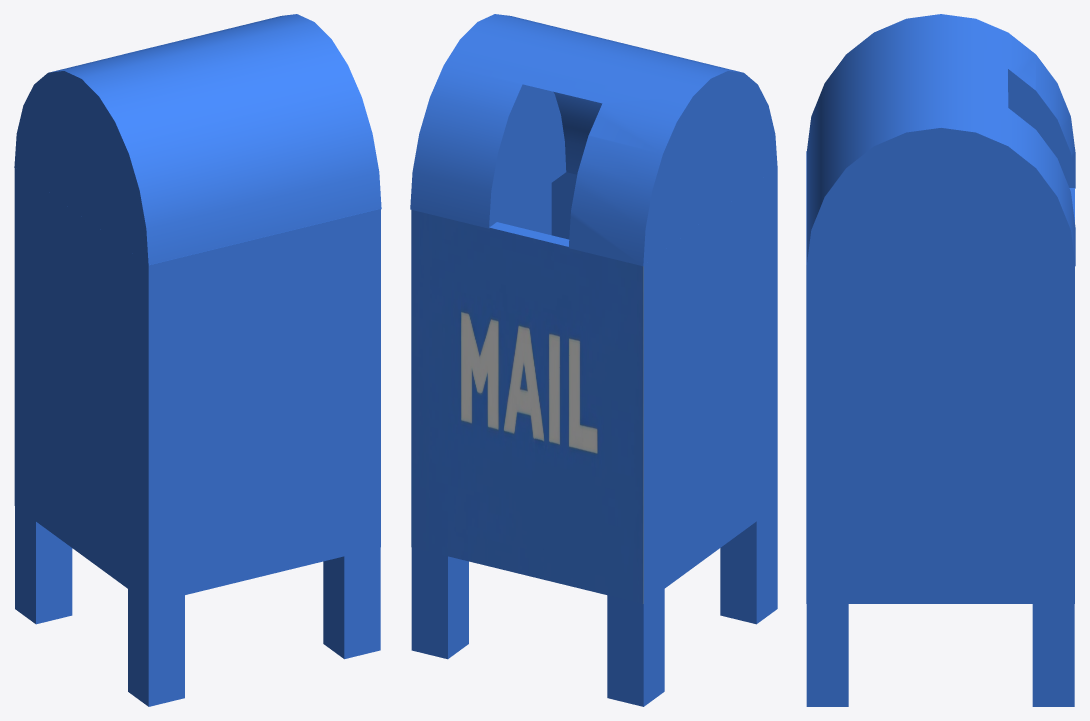
File: BuzonDeCorreo.obj
3 views of the same model, side by side, from view 1: azimuth 30°, elevation 25°; view 2: azimuth 150°, elevation 25°; view 3: azimuth 270°, elevation 25° (orthographic).
Visible parts, largest first — view 1: polySurface149, pCube9, pCube8, pCube10; view 2: polySurface149, pCube10, pCube7, pCube9; view 3: polySurface149, pCube8, pCube7.
Part boxes in pixels (left/top/right/bottom): polySurface149: left=14, top=14, right=381, bottom=603; pCube9: left=128, top=589, right=184, bottom=706; pCube8: left=323, top=547, right=380, bottom=659; pCube10: left=15, top=506, right=72, bottom=624; polySurface149: left=410, top=14, right=777, bottom=603; pCube10: left=607, top=589, right=664, bottom=706; pCube7: left=411, top=547, right=468, bottom=659; pCube9: left=720, top=506, right=777, bottom=624; polySurface149: left=806, top=14, right=1075, bottom=603; pCube8: left=806, top=604, right=848, bottom=706; pCube7: left=1032, top=604, right=1074, bottom=706.
Bounding box in the file's own units: 1.28 × 3.05 × 1.28.
Materials: 2 (2 with a texture image).
